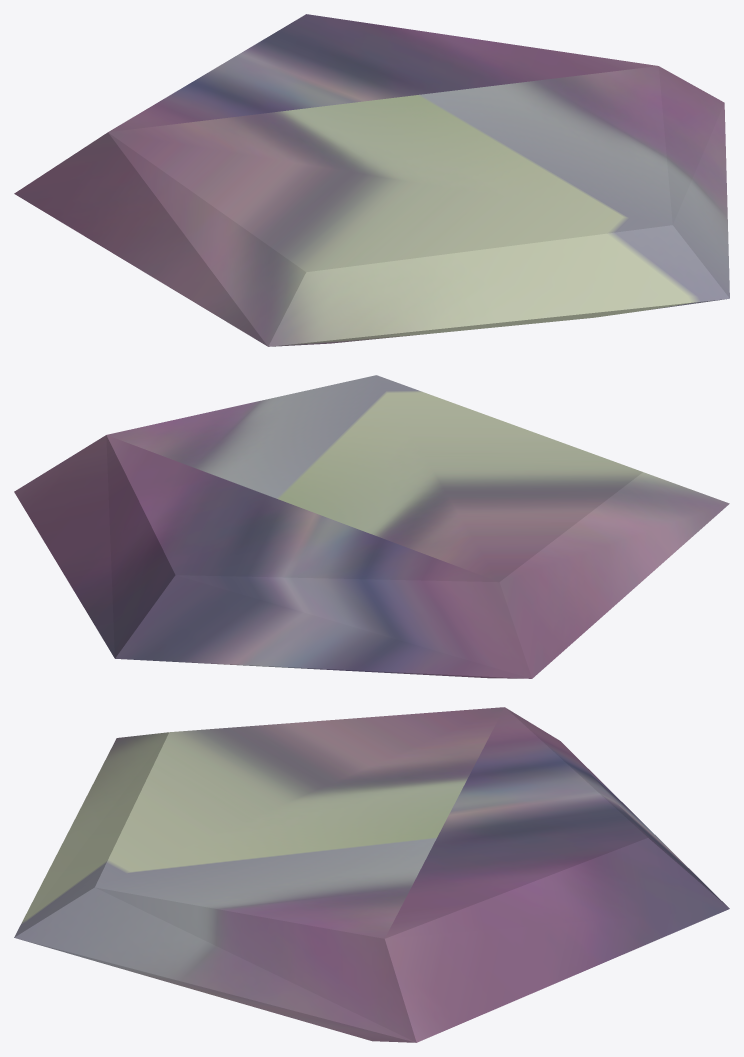
The model's file is PlateTree_1_Plate_10.gltf.
3 views of the same model, one above another, from view 1: azimuth 30°, elevation 25°; view 2: azimuth 150°, elevation 25°; view 3: azimuth 270°, elevation 25° (orthographic). The views are drawn at different scales.
Visible parts, largest first — view 1: PlateTree_1_Plate_10; view 2: PlateTree_1_Plate_10; view 3: PlateTree_1_Plate_10.
Boxes of the visible parts, x1,y1,x2,y2 form: PlateTree_1_Plate_10: (14,14,729,346); PlateTree_1_Plate_10: (14,375,729,678); PlateTree_1_Plate_10: (14,707,729,1042).
Bounding box in the file's own units: 1.54 × 0.3147 × 1.59.
1 material, 1 textured.
